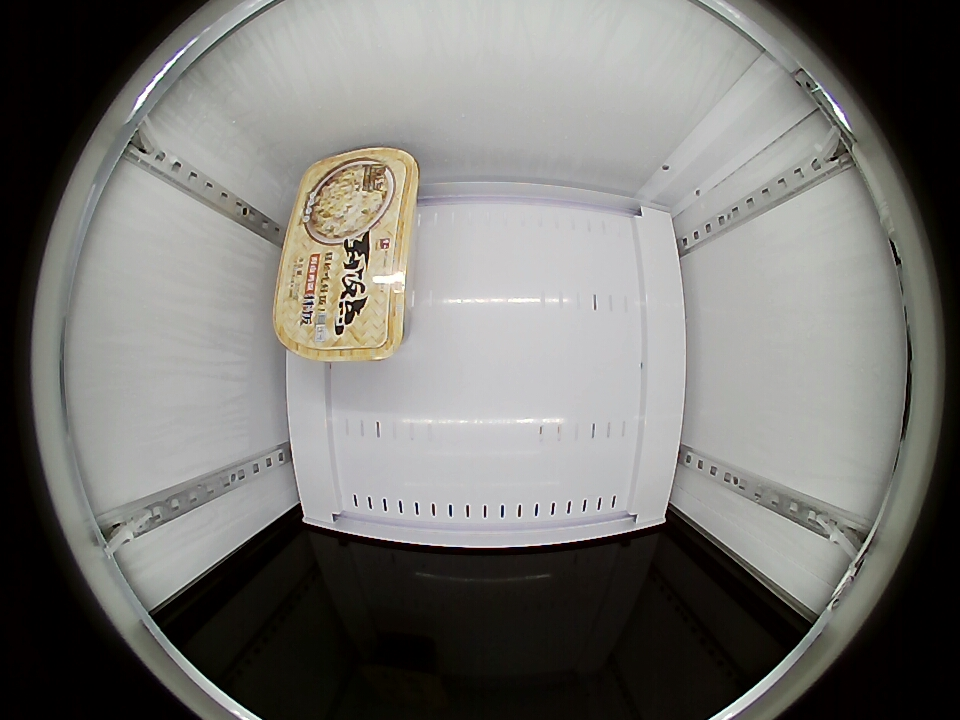daofandian1: (274, 146, 419, 362)
